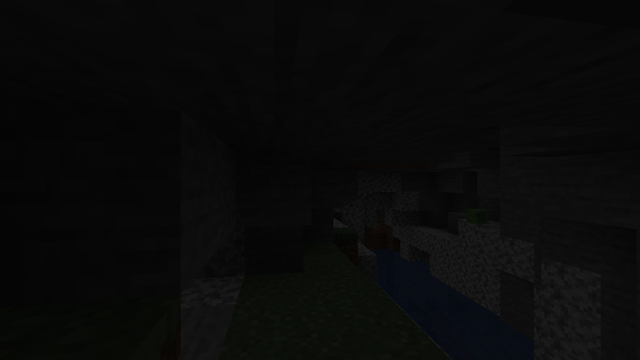slimes: (465, 208, 487, 224)
